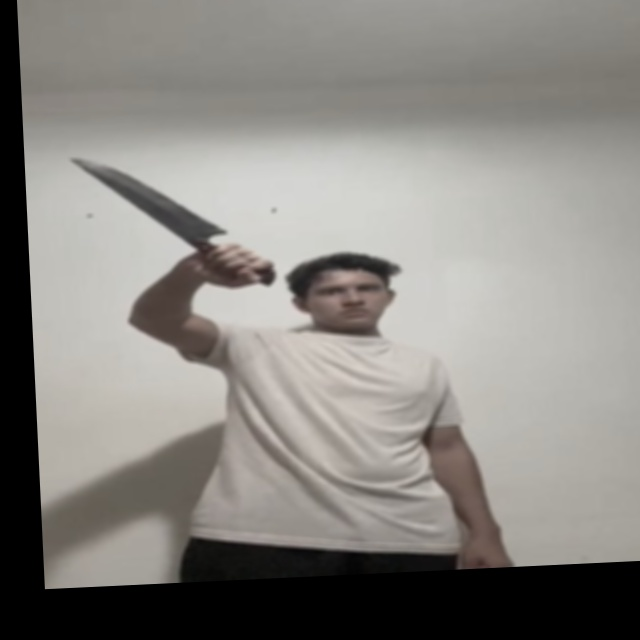Sharp-Object: (68, 150, 226, 245)
